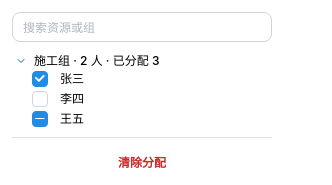
ResourceAssignmentList 三态 › 搜索无结果 → 空态文案（区别于「无资源」）
Type "不存在的名字" into the field with test id "assignment-search" at (142, 27), box [12, 12, 272, 42]
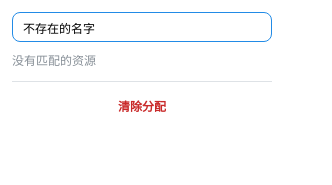
Now the text "没有匹配的资源" is shown, box [12, 53, 96, 68]
